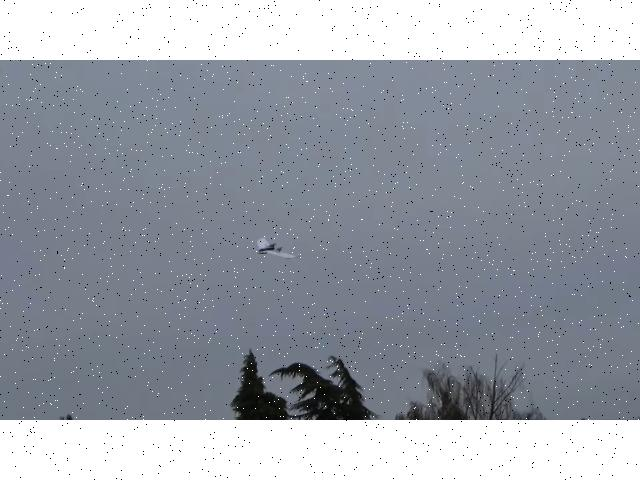Anti-Drone: (256, 239, 300, 259)
